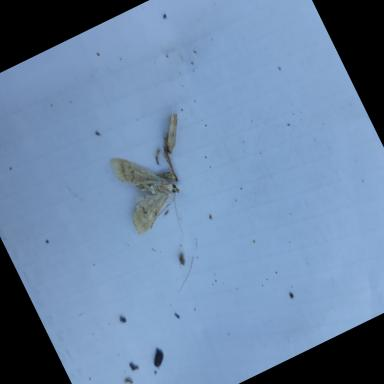abw: (103, 137, 200, 256)
pbw: (145, 142, 182, 190), (152, 112, 190, 154)
